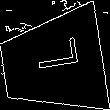L_W: (26, 44, 80, 82)
